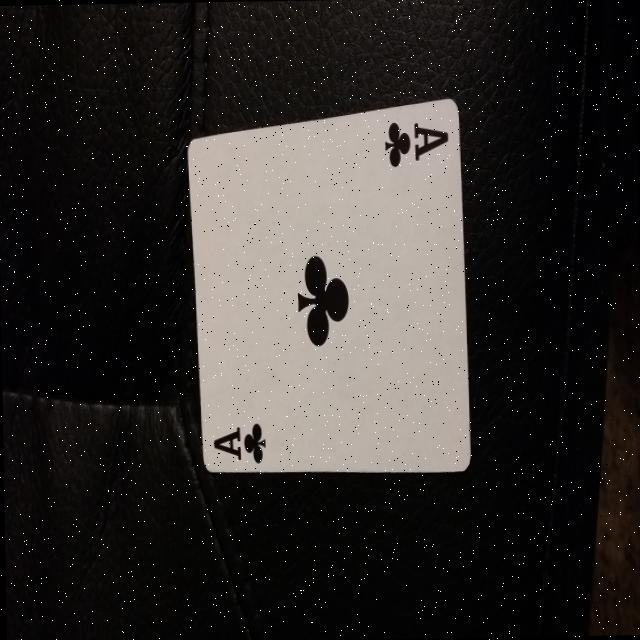Ac: (378, 106, 451, 177), (205, 411, 273, 473)
